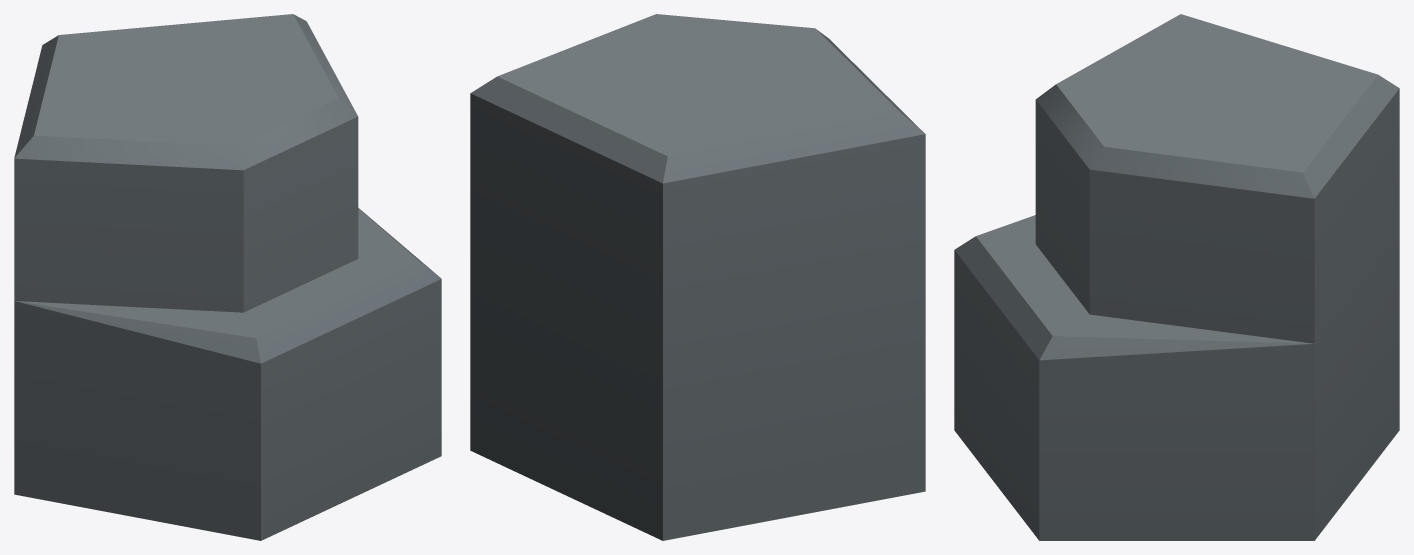
Rendered from Rock1A.glb.
The picture shows the model from 3 angles, left to right: view 1: azimuth 30°, elevation 25°; view 2: azimuth 150°, elevation 25°; view 3: azimuth 270°, elevation 25°; orthographic projection. The views are drawn at different scales.
Visible parts, largest first — view 1: Rock_1_A_Color1; view 2: Rock_1_A_Color1; view 3: Rock_1_A_Color1.
Boxes of the visible parts, x1,y1,x2,y2 form: Rock_1_A_Color1: [14, 14, 441, 540]; Rock_1_A_Color1: [470, 14, 925, 540]; Rock_1_A_Color1: [954, 14, 1399, 540].
Bounding box in the file's own units: 0.578 × 0.5403 × 0.6078.
1 material, 1 textured.
